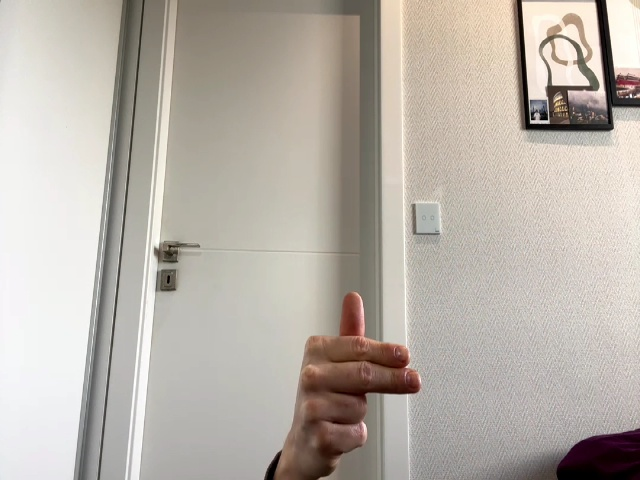N: (294, 292, 421, 462)
